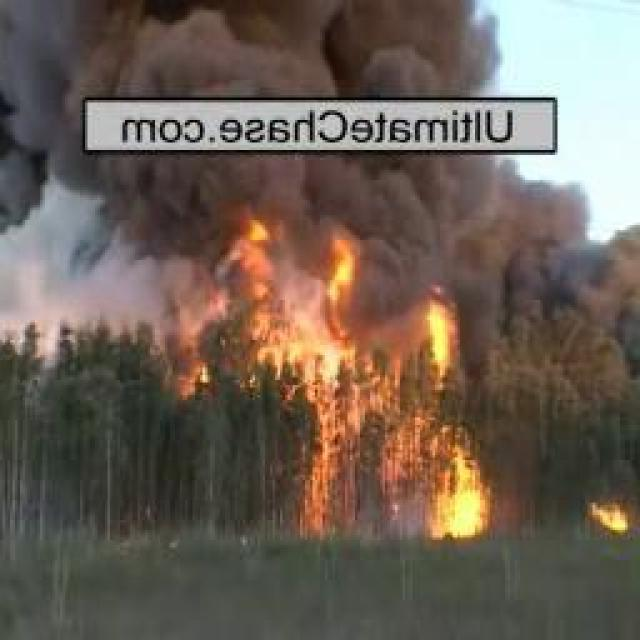Fire: (284, 204, 360, 533), (408, 276, 492, 544), (174, 205, 274, 404), (591, 490, 632, 536)
